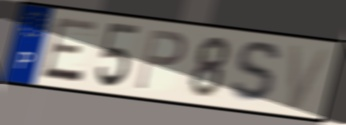5: (93, 21, 142, 90)
8: (188, 35, 231, 100)
E: (38, 15, 100, 85)
P: (133, 27, 188, 93)
S: (227, 39, 285, 106)
V: (286, 42, 333, 111)
